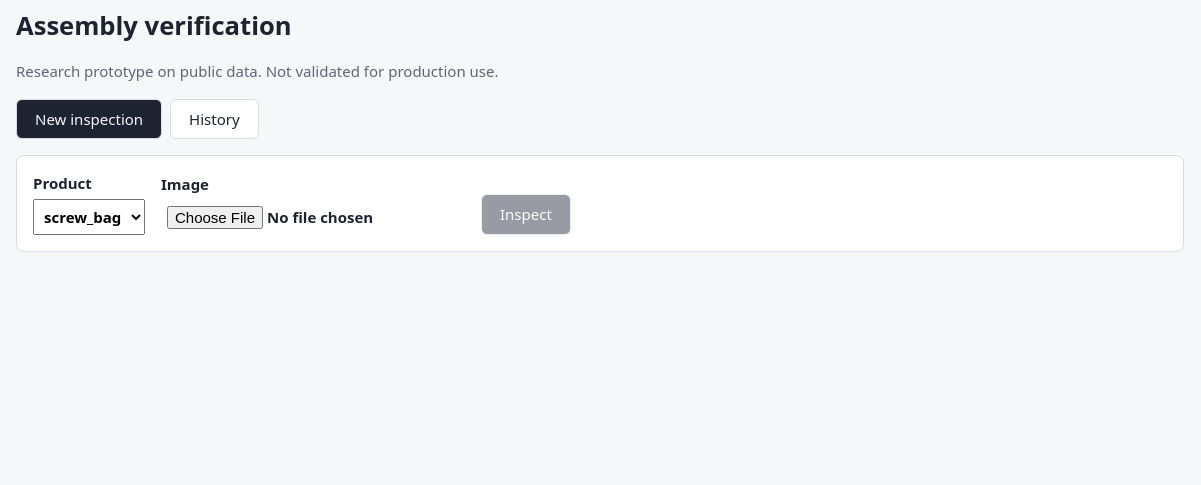
History › lists past inspections with status, image and finding codes
Click the button "History" at (214,119), box [170,99,259,139]
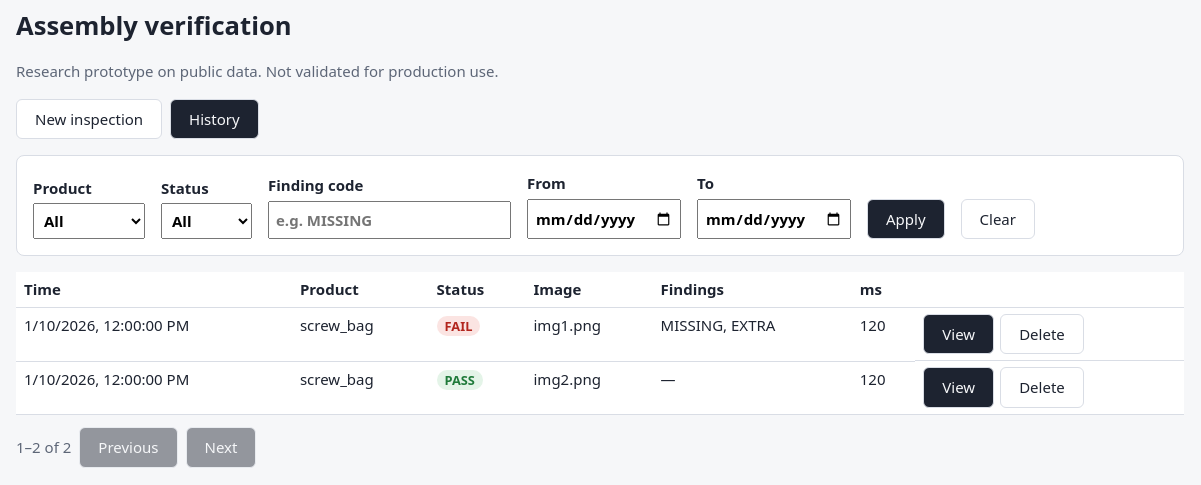
Expected: the text "img1.png" is shown, [526,307,652,361]
Expected: the text "MISSING, EXTRA" is shown, [652,307,852,361]
Expected: the text "FAIL" is shown, [437,316,480,336]
